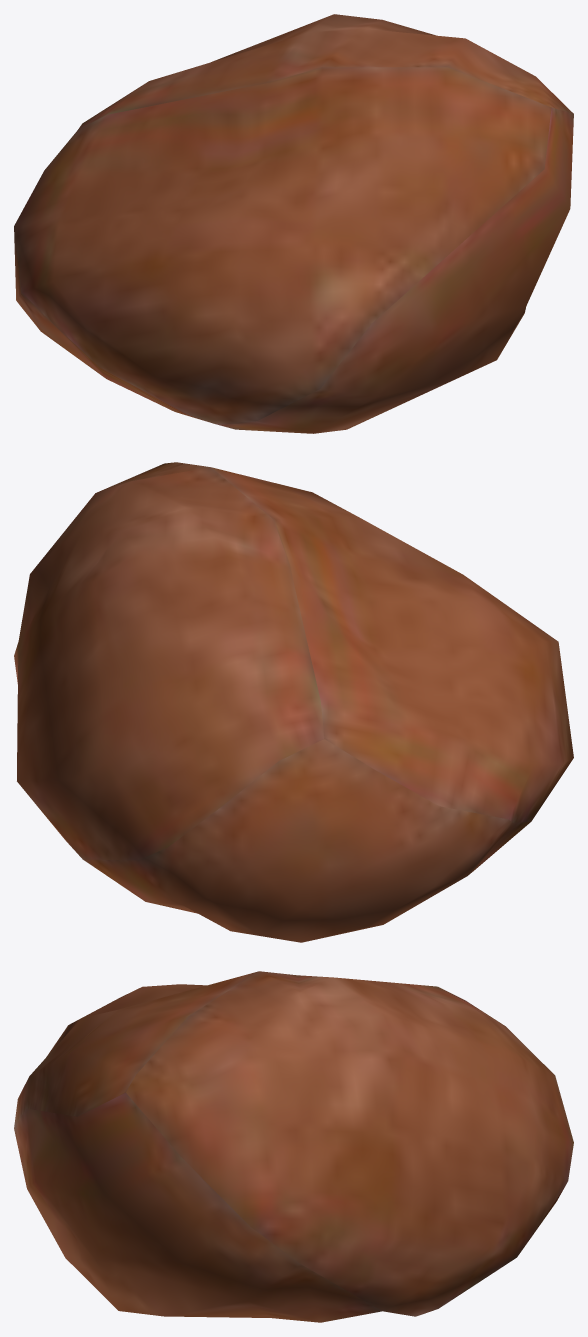
Rendered from Canyon_Rock_Boulders_4.glb.
3 views of the same model, one above another, from view 1: azimuth 30°, elevation 25°; view 2: azimuth 150°, elevation 25°; view 3: azimuth 270°, elevation 25° (orthographic). The views are drawn at different scales.
Parts seen in each view (by area): view 1: Canyon_Rock_Boulders_4_0; view 2: Canyon_Rock_Boulders_4_0; view 3: Canyon_Rock_Boulders_4_0.
Boxes of the visible parts, x1,y1,x2,y2 form: Canyon_Rock_Boulders_4_0: (14, 14, 573, 433); Canyon_Rock_Boulders_4_0: (14, 462, 573, 942); Canyon_Rock_Boulders_4_0: (14, 971, 573, 1322).
Bounding box in the file's own units: 4.13 × 2.6 × 3.87.
Materials: 1 (1 with a texture image).
